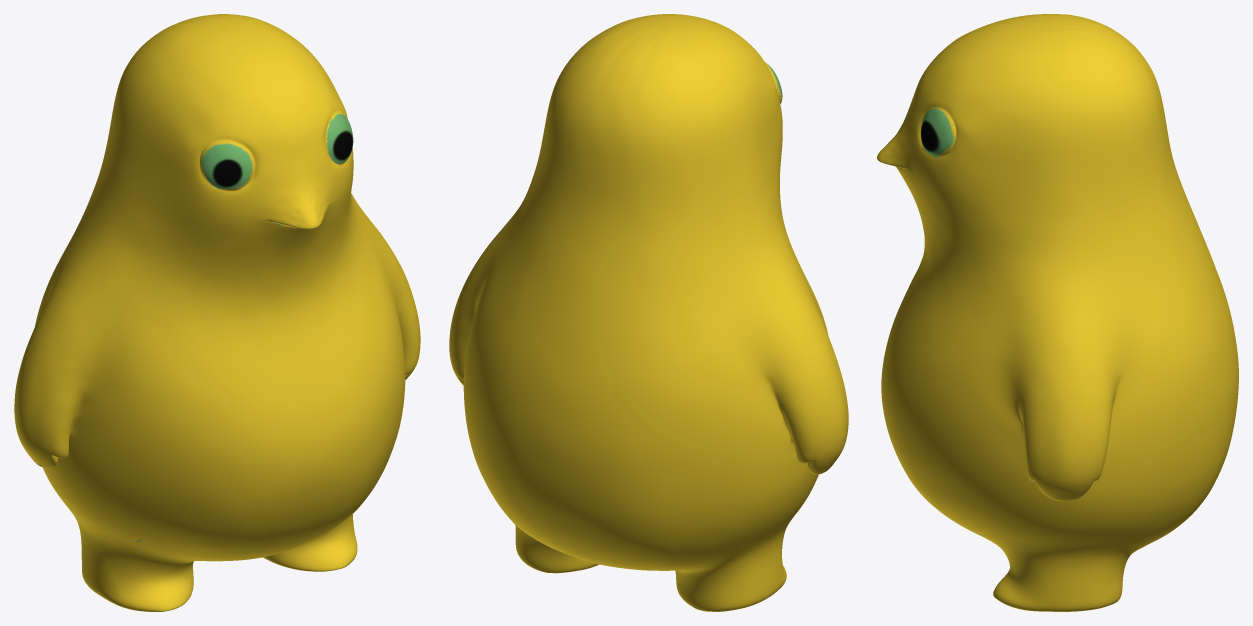
File: 奶娃blender.fbx
3 views of the same model, side by side, from view 1: azimuth 30°, elevation 25°; view 2: azimuth 150°, elevation 25°; view 3: azimuth 270°, elevation 25° (orthographic). The views are drawn at different scales.
Visible parts, largest first — view 1: low; view 2: low; view 3: low.
Boxes of the visible parts, left/top/right/bottom form: low: left=14, top=14, right=420, bottom=611; low: left=449, top=14, right=848, bottom=611; low: left=877, top=14, right=1238, bottom=611.
Size of the model in its own units: 82.19 by 108 by 67.04.
1 material, 1 textured.
